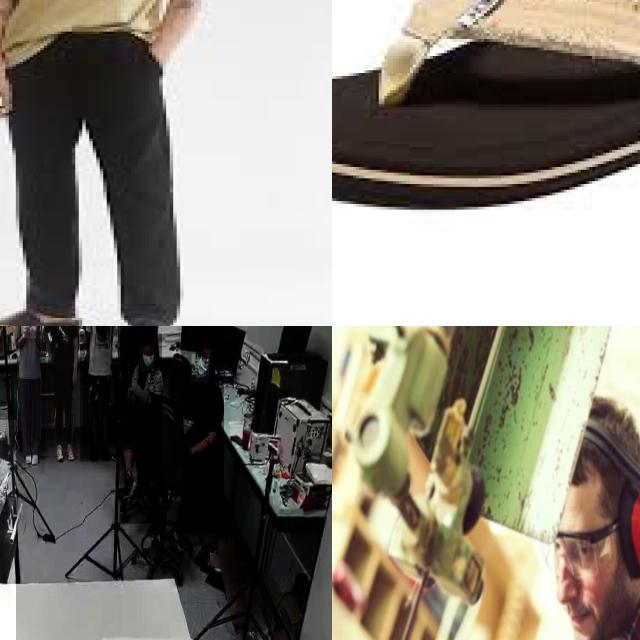Ear-protection: (617, 476, 640, 577)
Sandals: (332, 0, 640, 265), (0, 308, 84, 326)
face_mask: (192, 354, 210, 383), (140, 346, 154, 372)
glasses: (530, 512, 615, 581)
hand_noglove: (70, 367, 78, 389), (83, 347, 89, 368), (20, 326, 29, 339), (29, 326, 36, 339)
head_nohelmet: (197, 326, 220, 350), (141, 326, 157, 345)
person: (438, 351, 640, 640), (181, 335, 225, 535), (120, 333, 162, 524), (40, 326, 83, 457), (80, 326, 119, 462), (12, 326, 45, 475), (113, 326, 155, 371)
